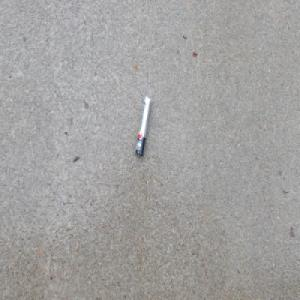Battery: (134, 94, 152, 158)
